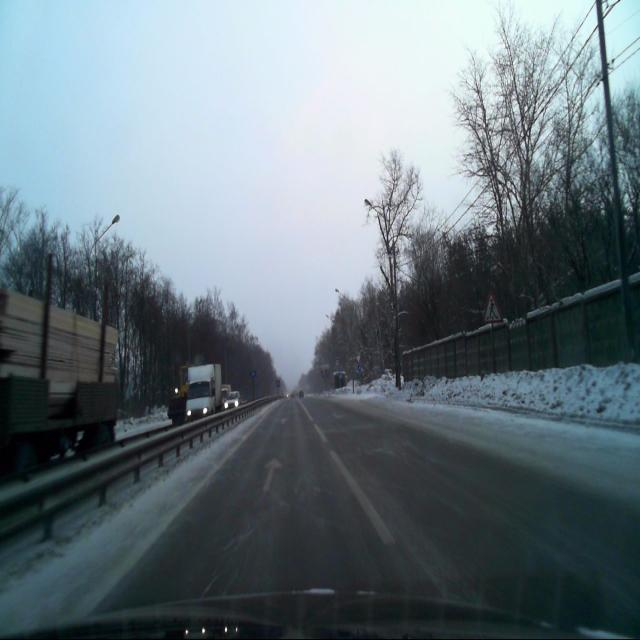road sign: (482, 289, 504, 325)
